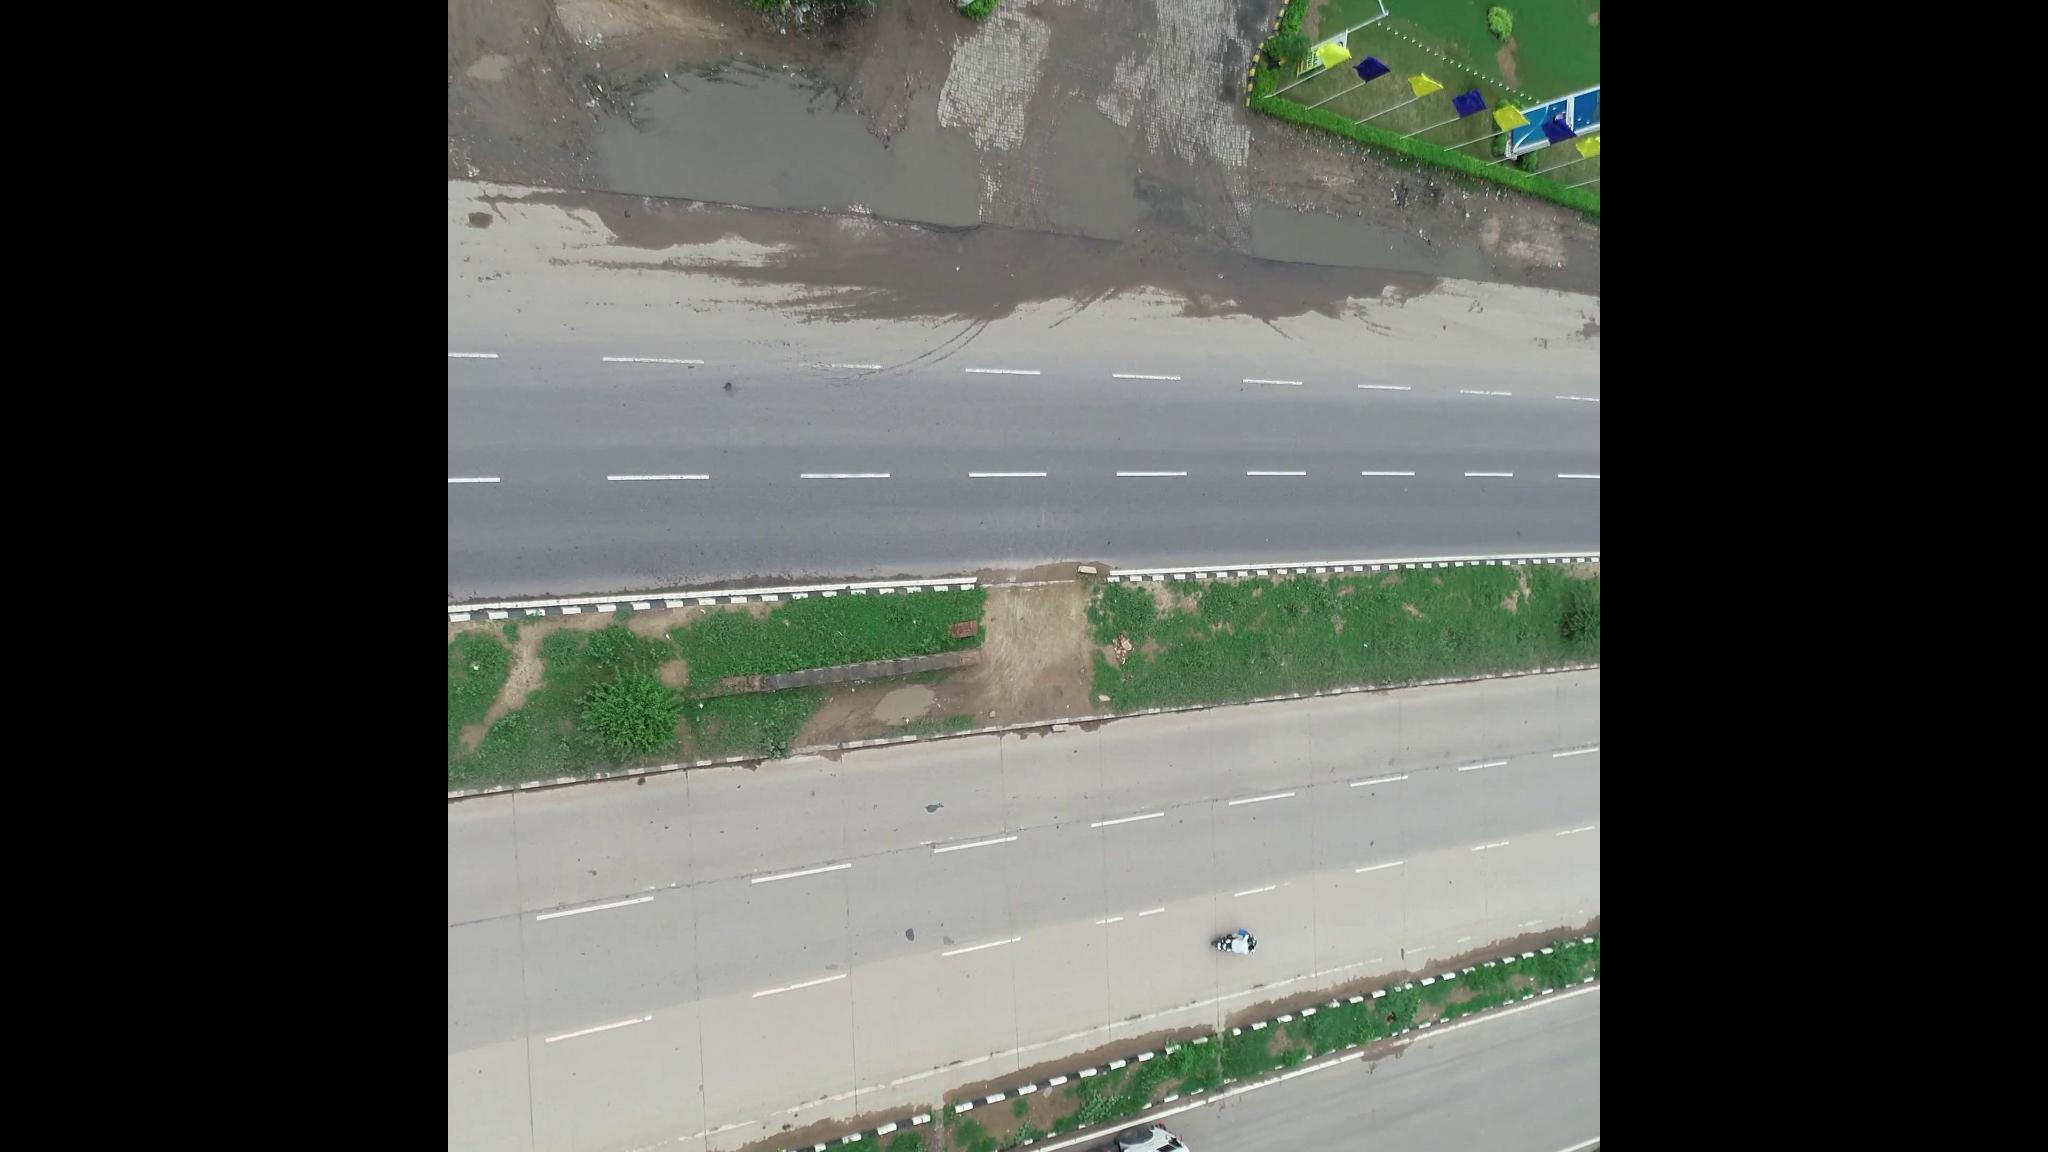Waterlogging: (613, 89, 1018, 242)
